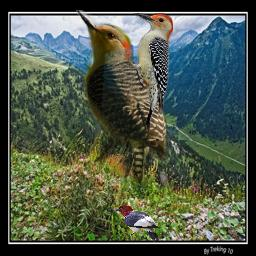Woodpecker: (76, 10, 167, 188), (113, 13, 173, 132), (109, 205, 160, 242)
